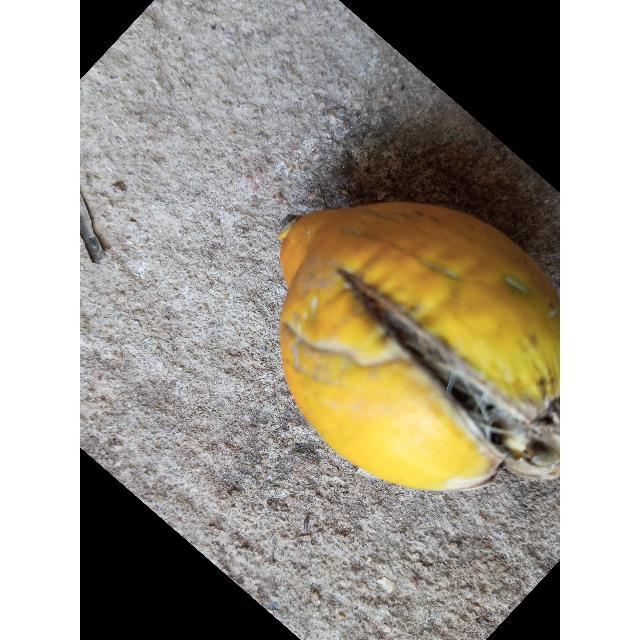damaged: (280, 202, 560, 491)
